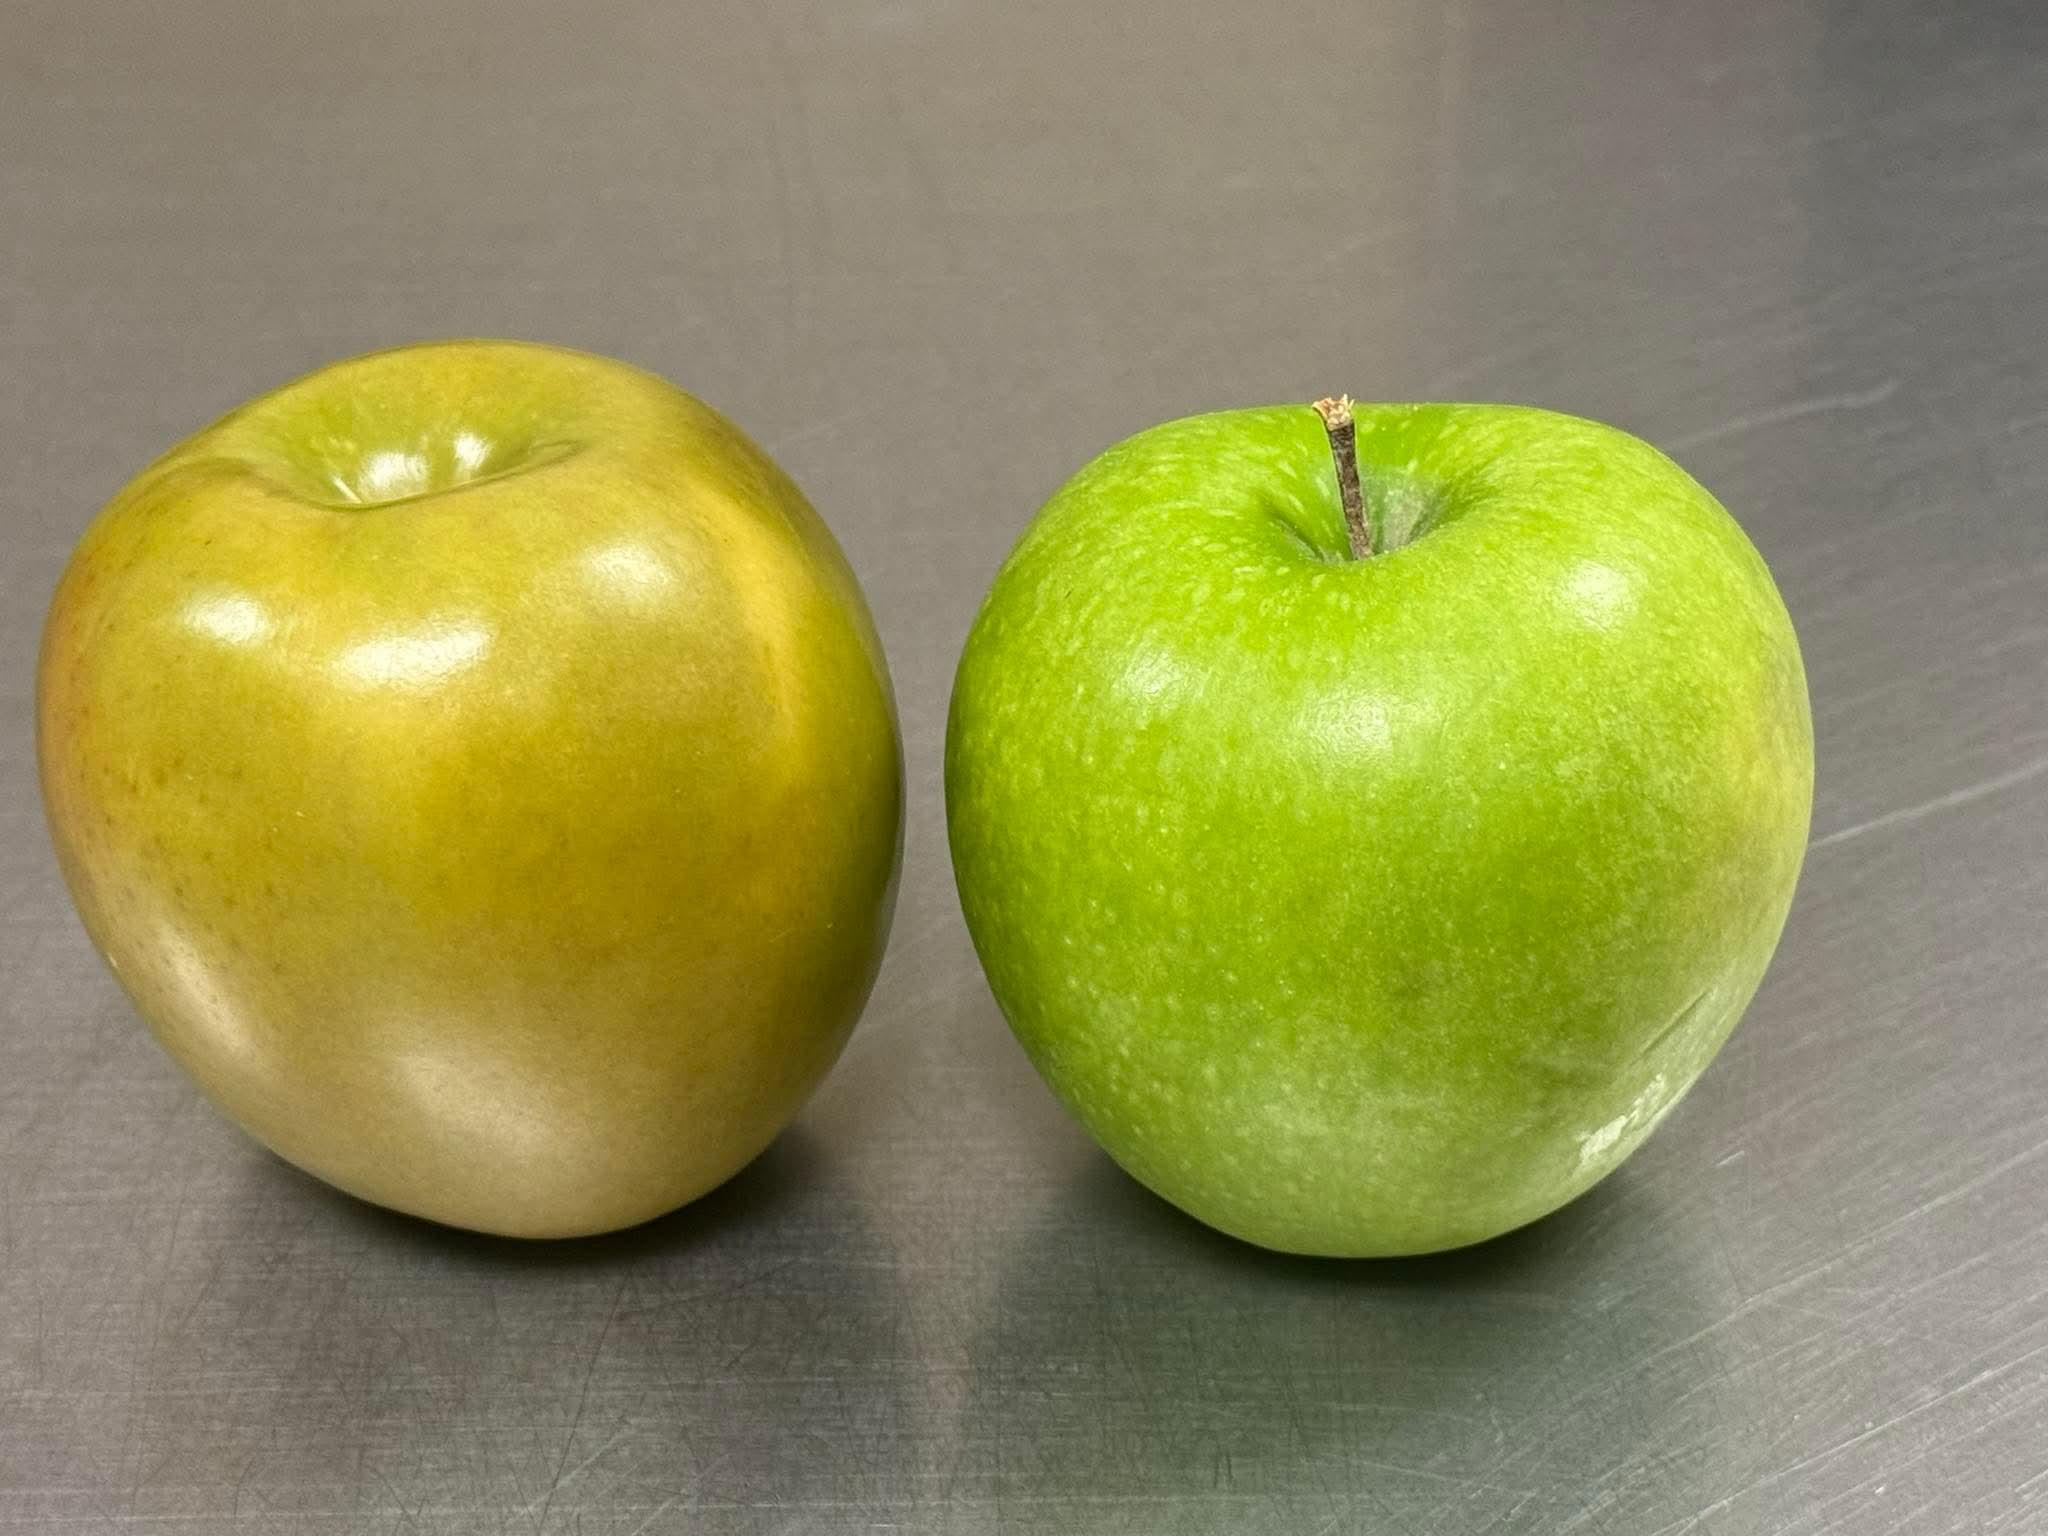non-mango: (35, 352, 914, 1262), (940, 392, 1832, 1268)
